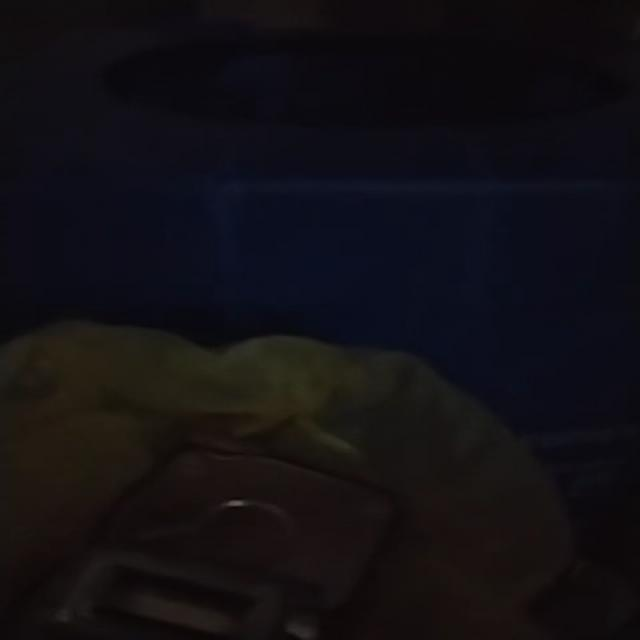metal: (13, 450, 396, 640)
